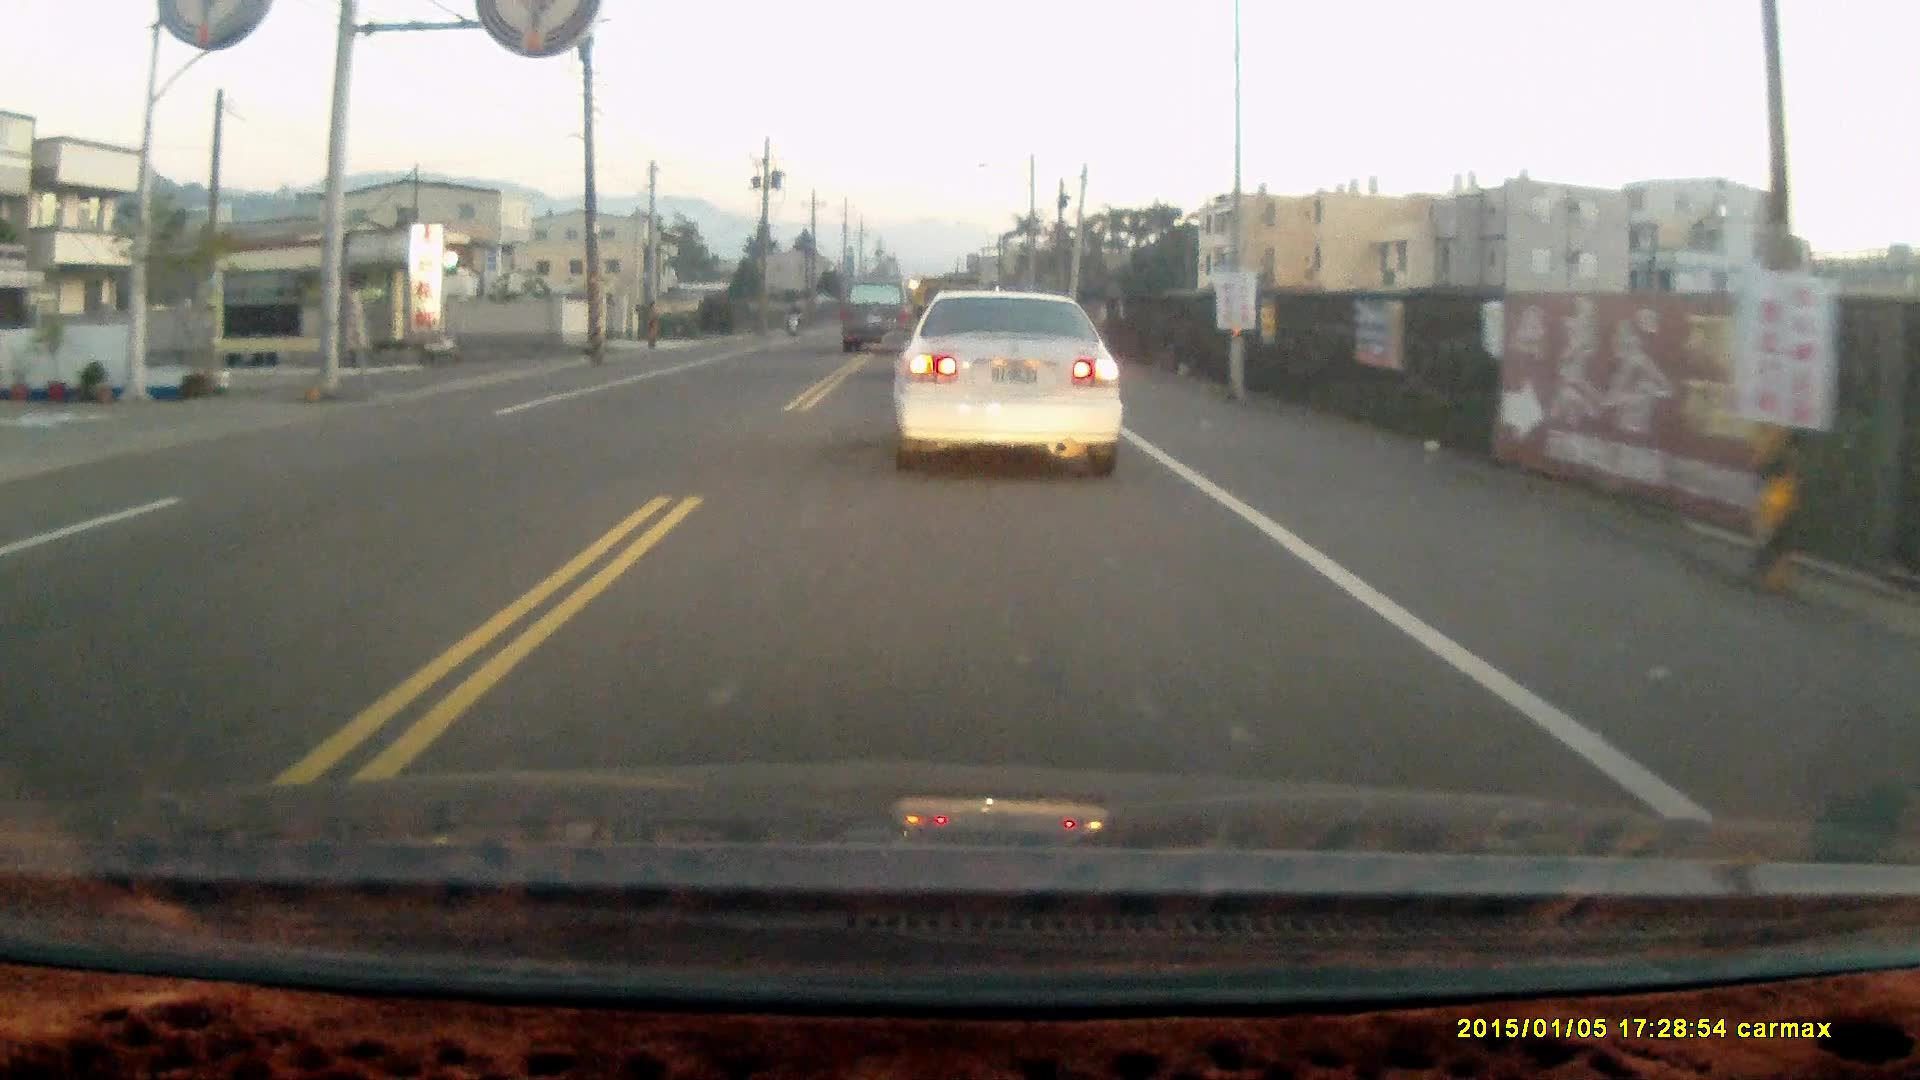rider: (781, 299, 801, 340)
vehicle: (888, 292, 1132, 484), (840, 279, 917, 358)
